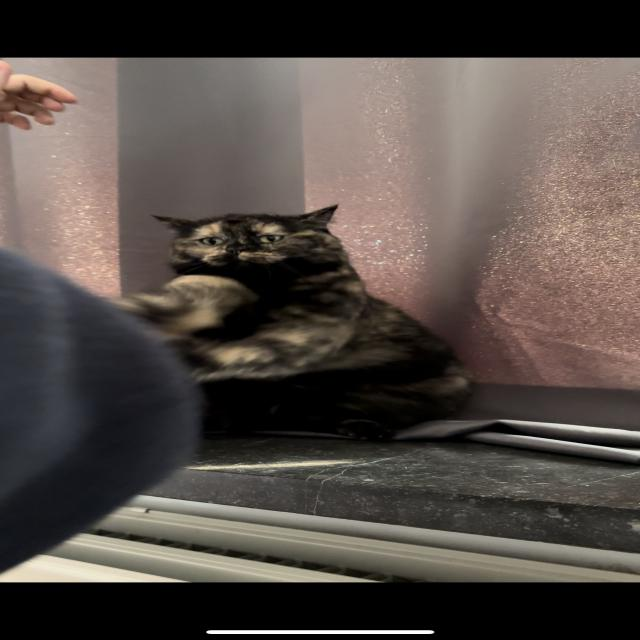authorized: (110, 203, 474, 441)
